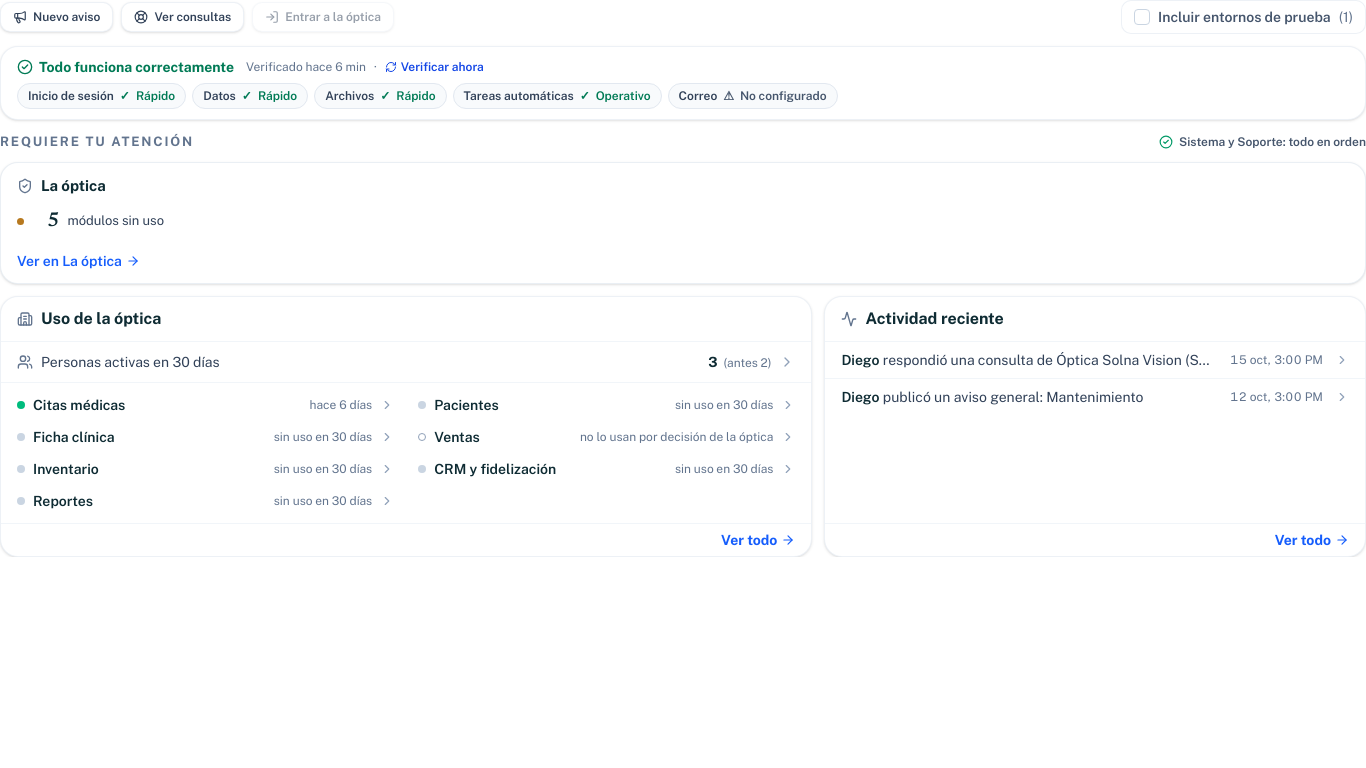
Test: Inicio del superadmin: uso de la óptica y actividad reciente › «No usamos este módulo»: se ve como decisión de la óptica, no cuenta como sin uso y sale de «Requiere tu atención»
The width and height of the screenshot is (1366, 768).
Expected: the button with aria-label "5 módulos sin uso en 30 días" is shown, [17,203,1349,239]
Expected: the element "Requiere tu atención" does not show "Ventas"
Click the button with aria-label "Ventas: No lo usan por decisión de la óptica": (607, 437) [410,421,803,453]
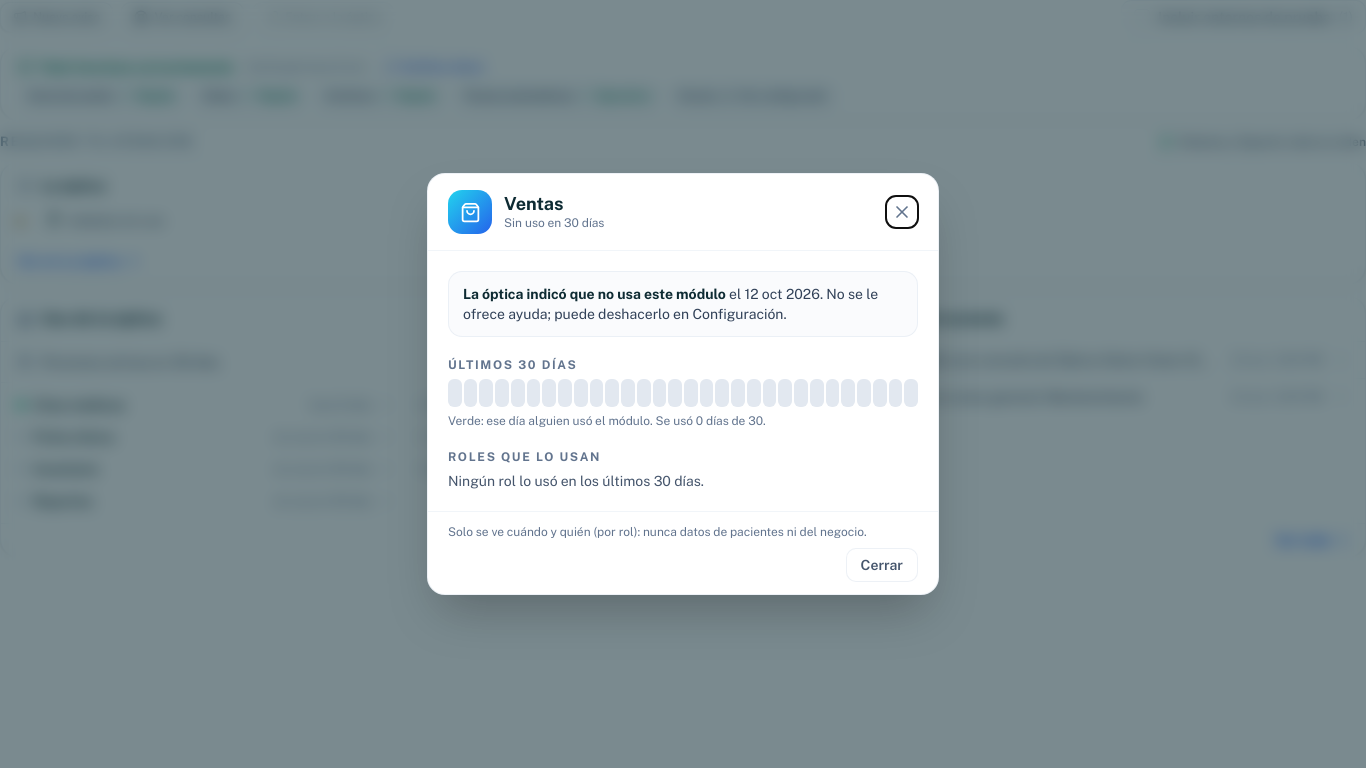
Now the element "ayuda" shows "La óptica indicó que no usa este módulo el 12 oct", box [448,271,918,337]
